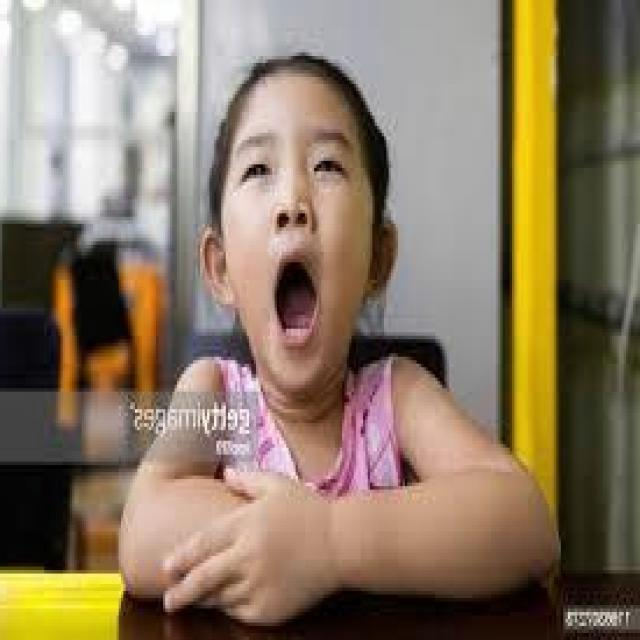child: (111, 53, 556, 623)
